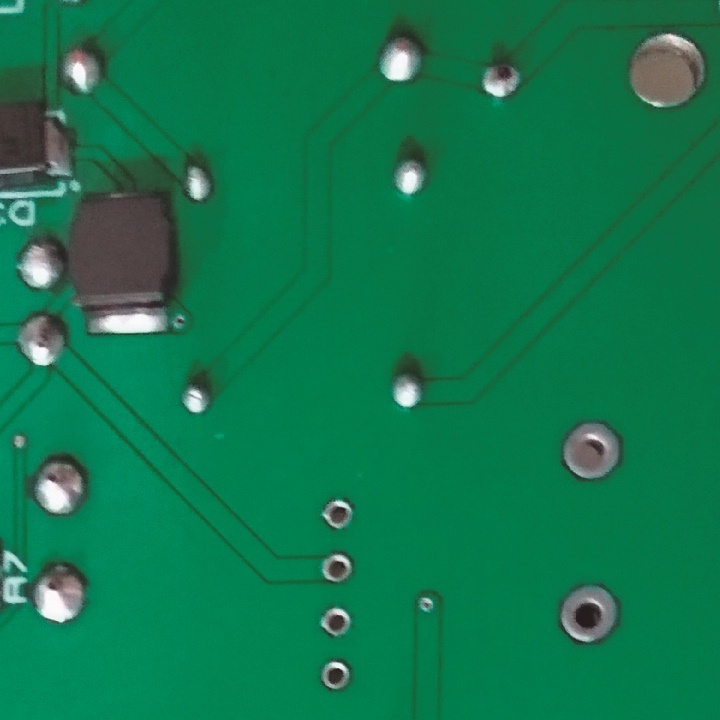F: (556, 415, 626, 484), (556, 577, 621, 649), (317, 495, 363, 533), (318, 546, 357, 586), (318, 603, 356, 638), (319, 652, 351, 692)
